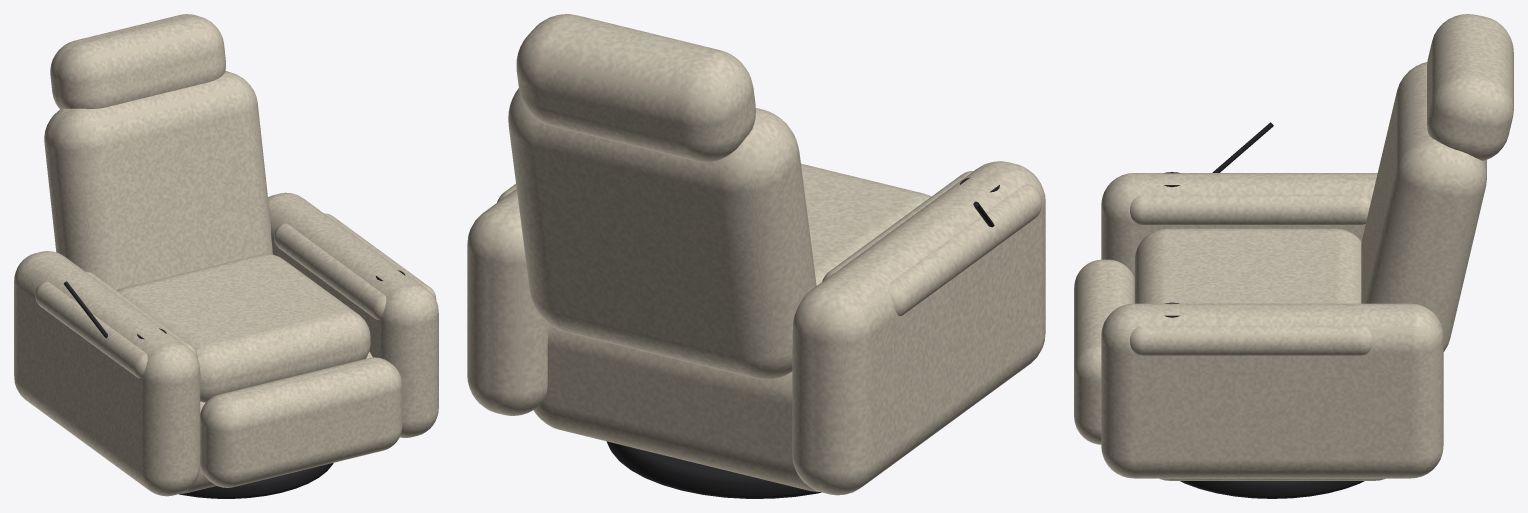
File: kreslo-relax.glb
3 views of the same model, side by side, from view 1: azimuth 30°, elevation 25°; view 2: azimuth 150°, elevation 25°; view 3: azimuth 270°, elevation 25° (orthographic). The views are drawn at different scales.
Parts seen in each view (by area): view 1: furniture; view 2: furniture; view 3: furniture.
Part boxes in pixels (<box>): furniture: <box>14,14,438,498</box>; furniture: <box>467,14,1045,498</box>; furniture: <box>1074,14,1513,498</box>.
Bounding box in the file's own units: 0.9707 × 1.06 × 1.05.
Materials: 3 (2 with a texture image).
